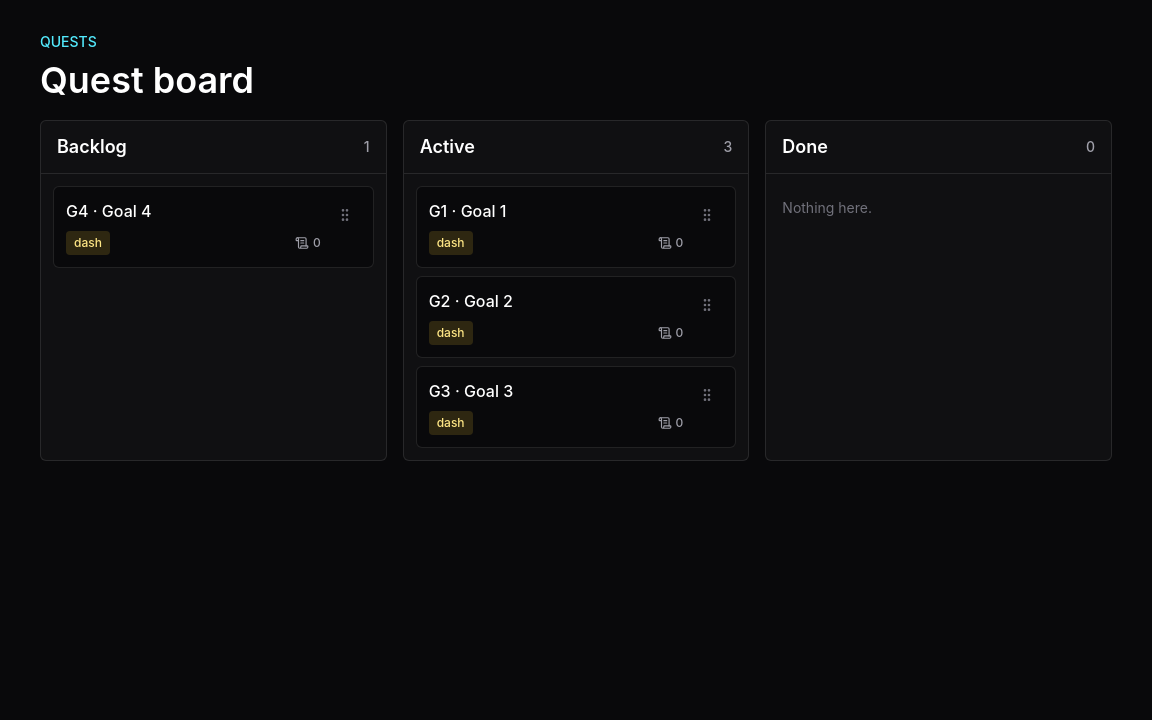
Test: GoalsPage › warns when Active exceeds the limit without blocking the next move
Click the button "G4 · Goal 4 dash 0" at (193, 227), box [66,199,321,255]
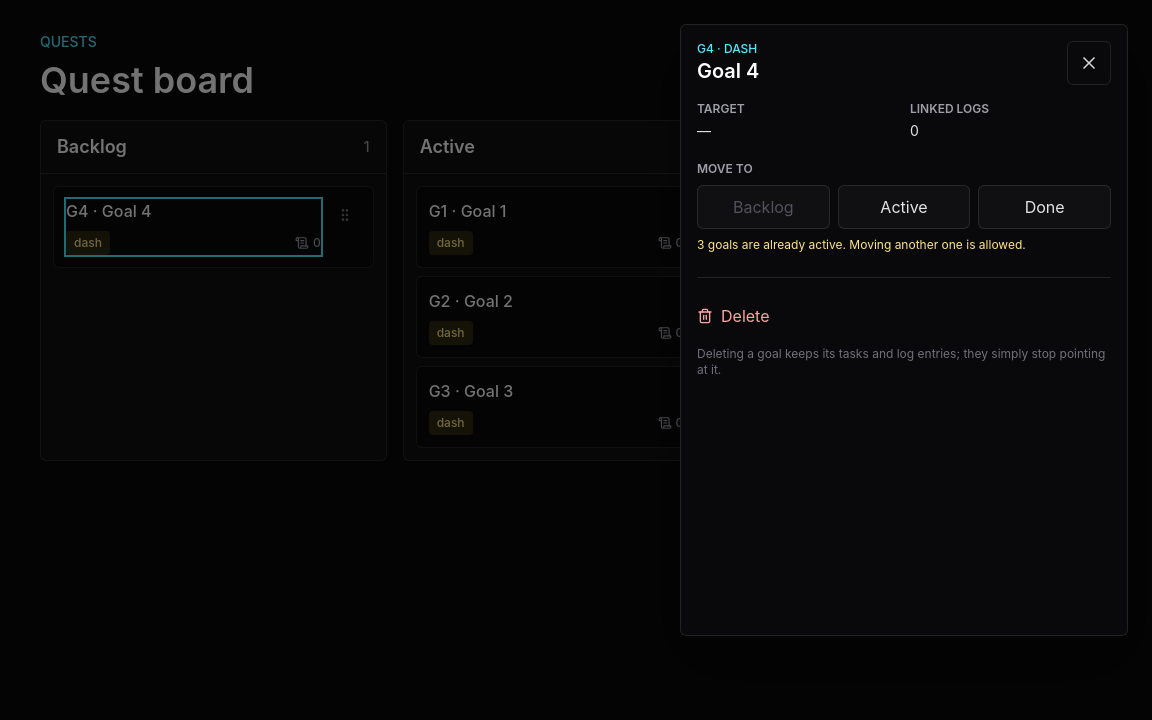
Click the button with aria-label "Move to Active" at (904, 207), box [838,185,970,229]
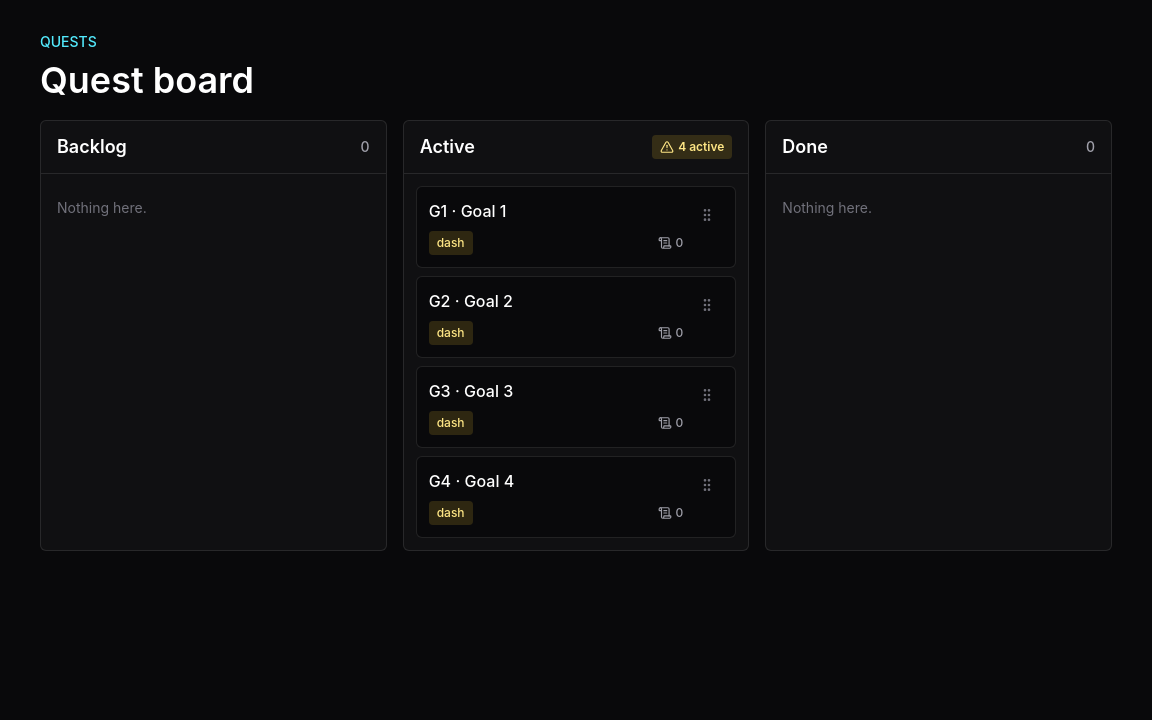
expect the text "4 active" is shown: met, box [652,135,732,159]
